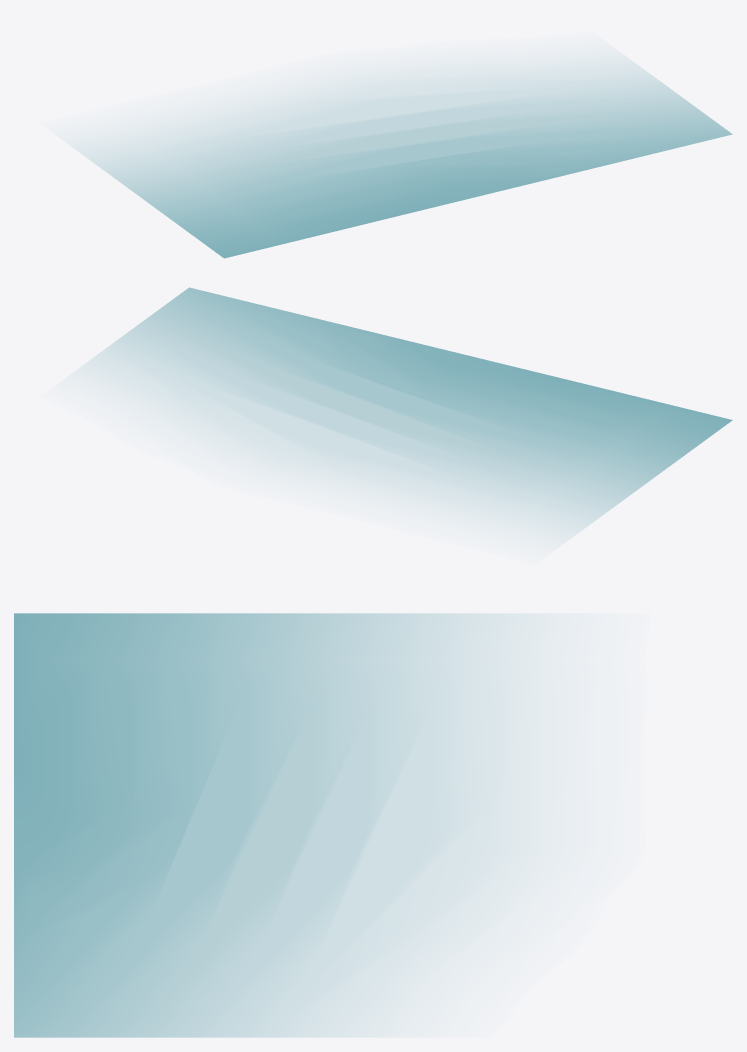
3 renders of one model, top to bottom at view 1: azimuth 30°, elevation 25°; view 2: azimuth 150°, elevation 25°; view 3: azimuth 270°, elevation 25°, orthographic. The views are drawn at different scales.
Visible parts, largest first — view 1: city; view 2: city; view 3: city.
Boxes of the visible parts, x1,y1,x2,y2 form: city: (73,59,732,258); city: (79,287,732,537); city: (14,613,532,1037).
Size of the model in its own units: 500 by 0 by 358.
